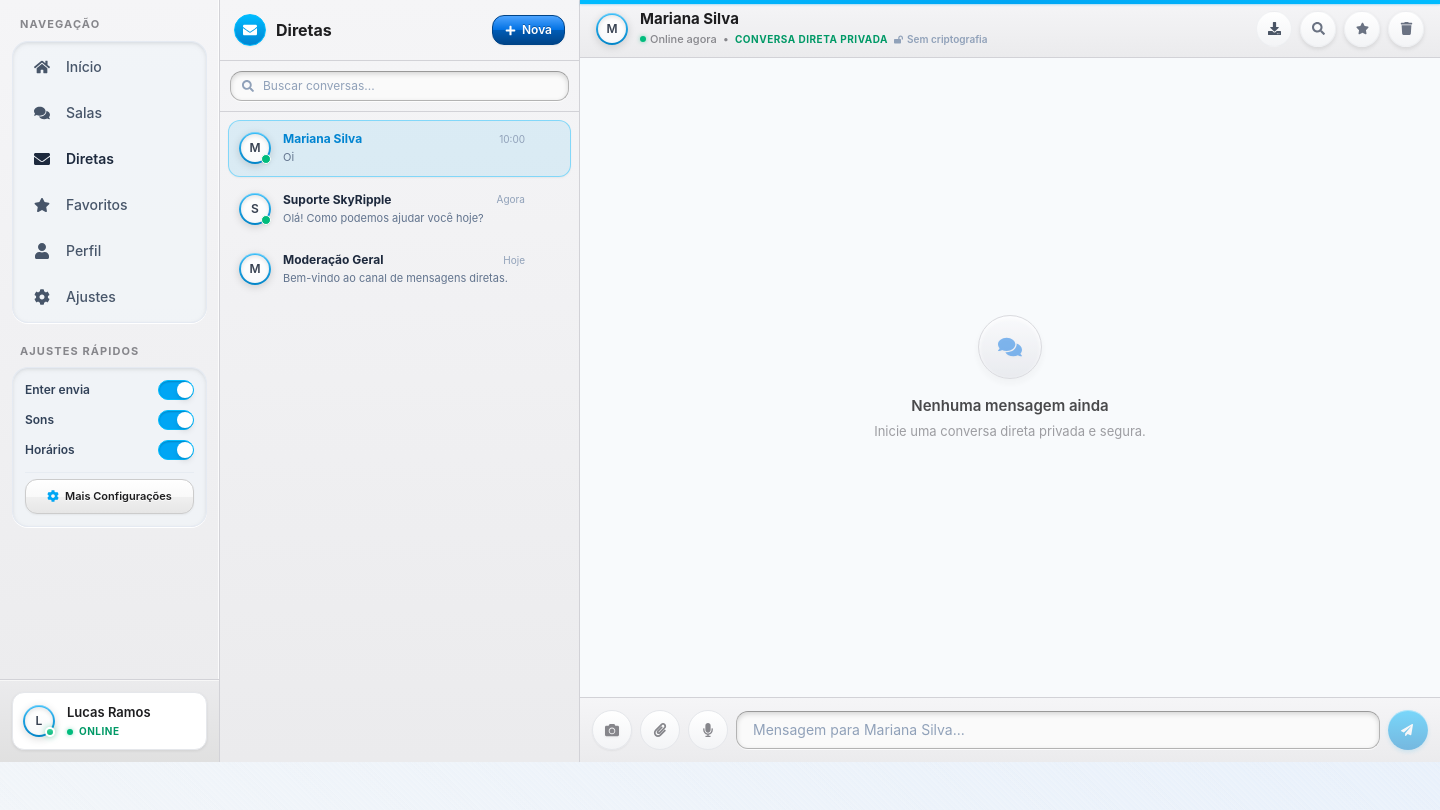
Test: Directs com criptografia ponta a ponta › mostra o selo de criptografia e decifra o histórico vindo do servidor
What coordinates should you click on to do the following:
click the heading "Mariana Silva" next to "10:00"
I would click on:
 (323, 139)
Its box is [283,131,362,147].
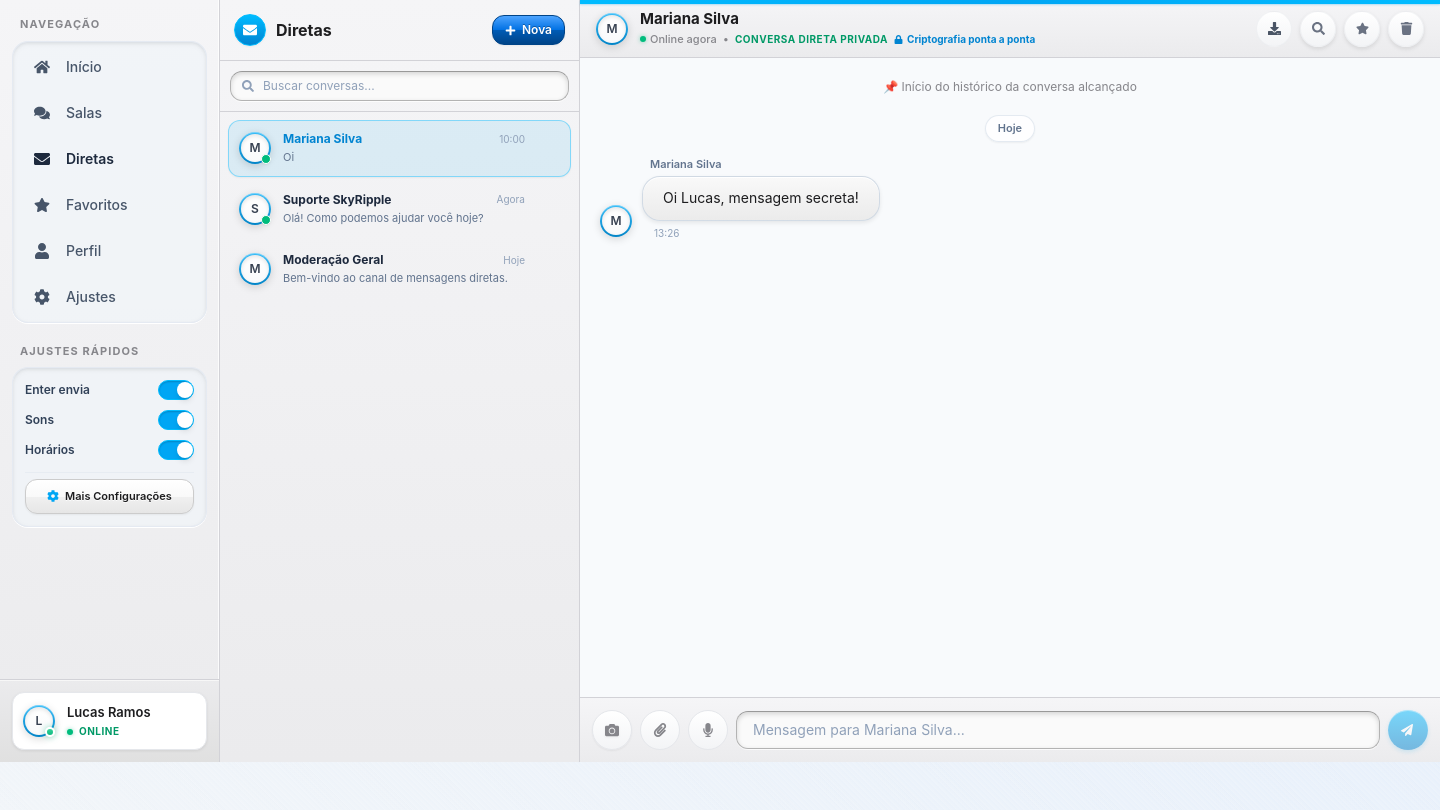
Expected: the field with placeholder "Mensagem para Mariana Silva..." is shown, [736,711,1380,749]
Expected: the text "Oi Lucas, mensagem secreta!" is shown, [663,187,859,210]
